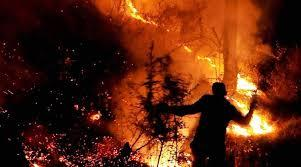fire: (113, 0, 225, 78), (116, 76, 191, 166), (233, 79, 281, 142)
